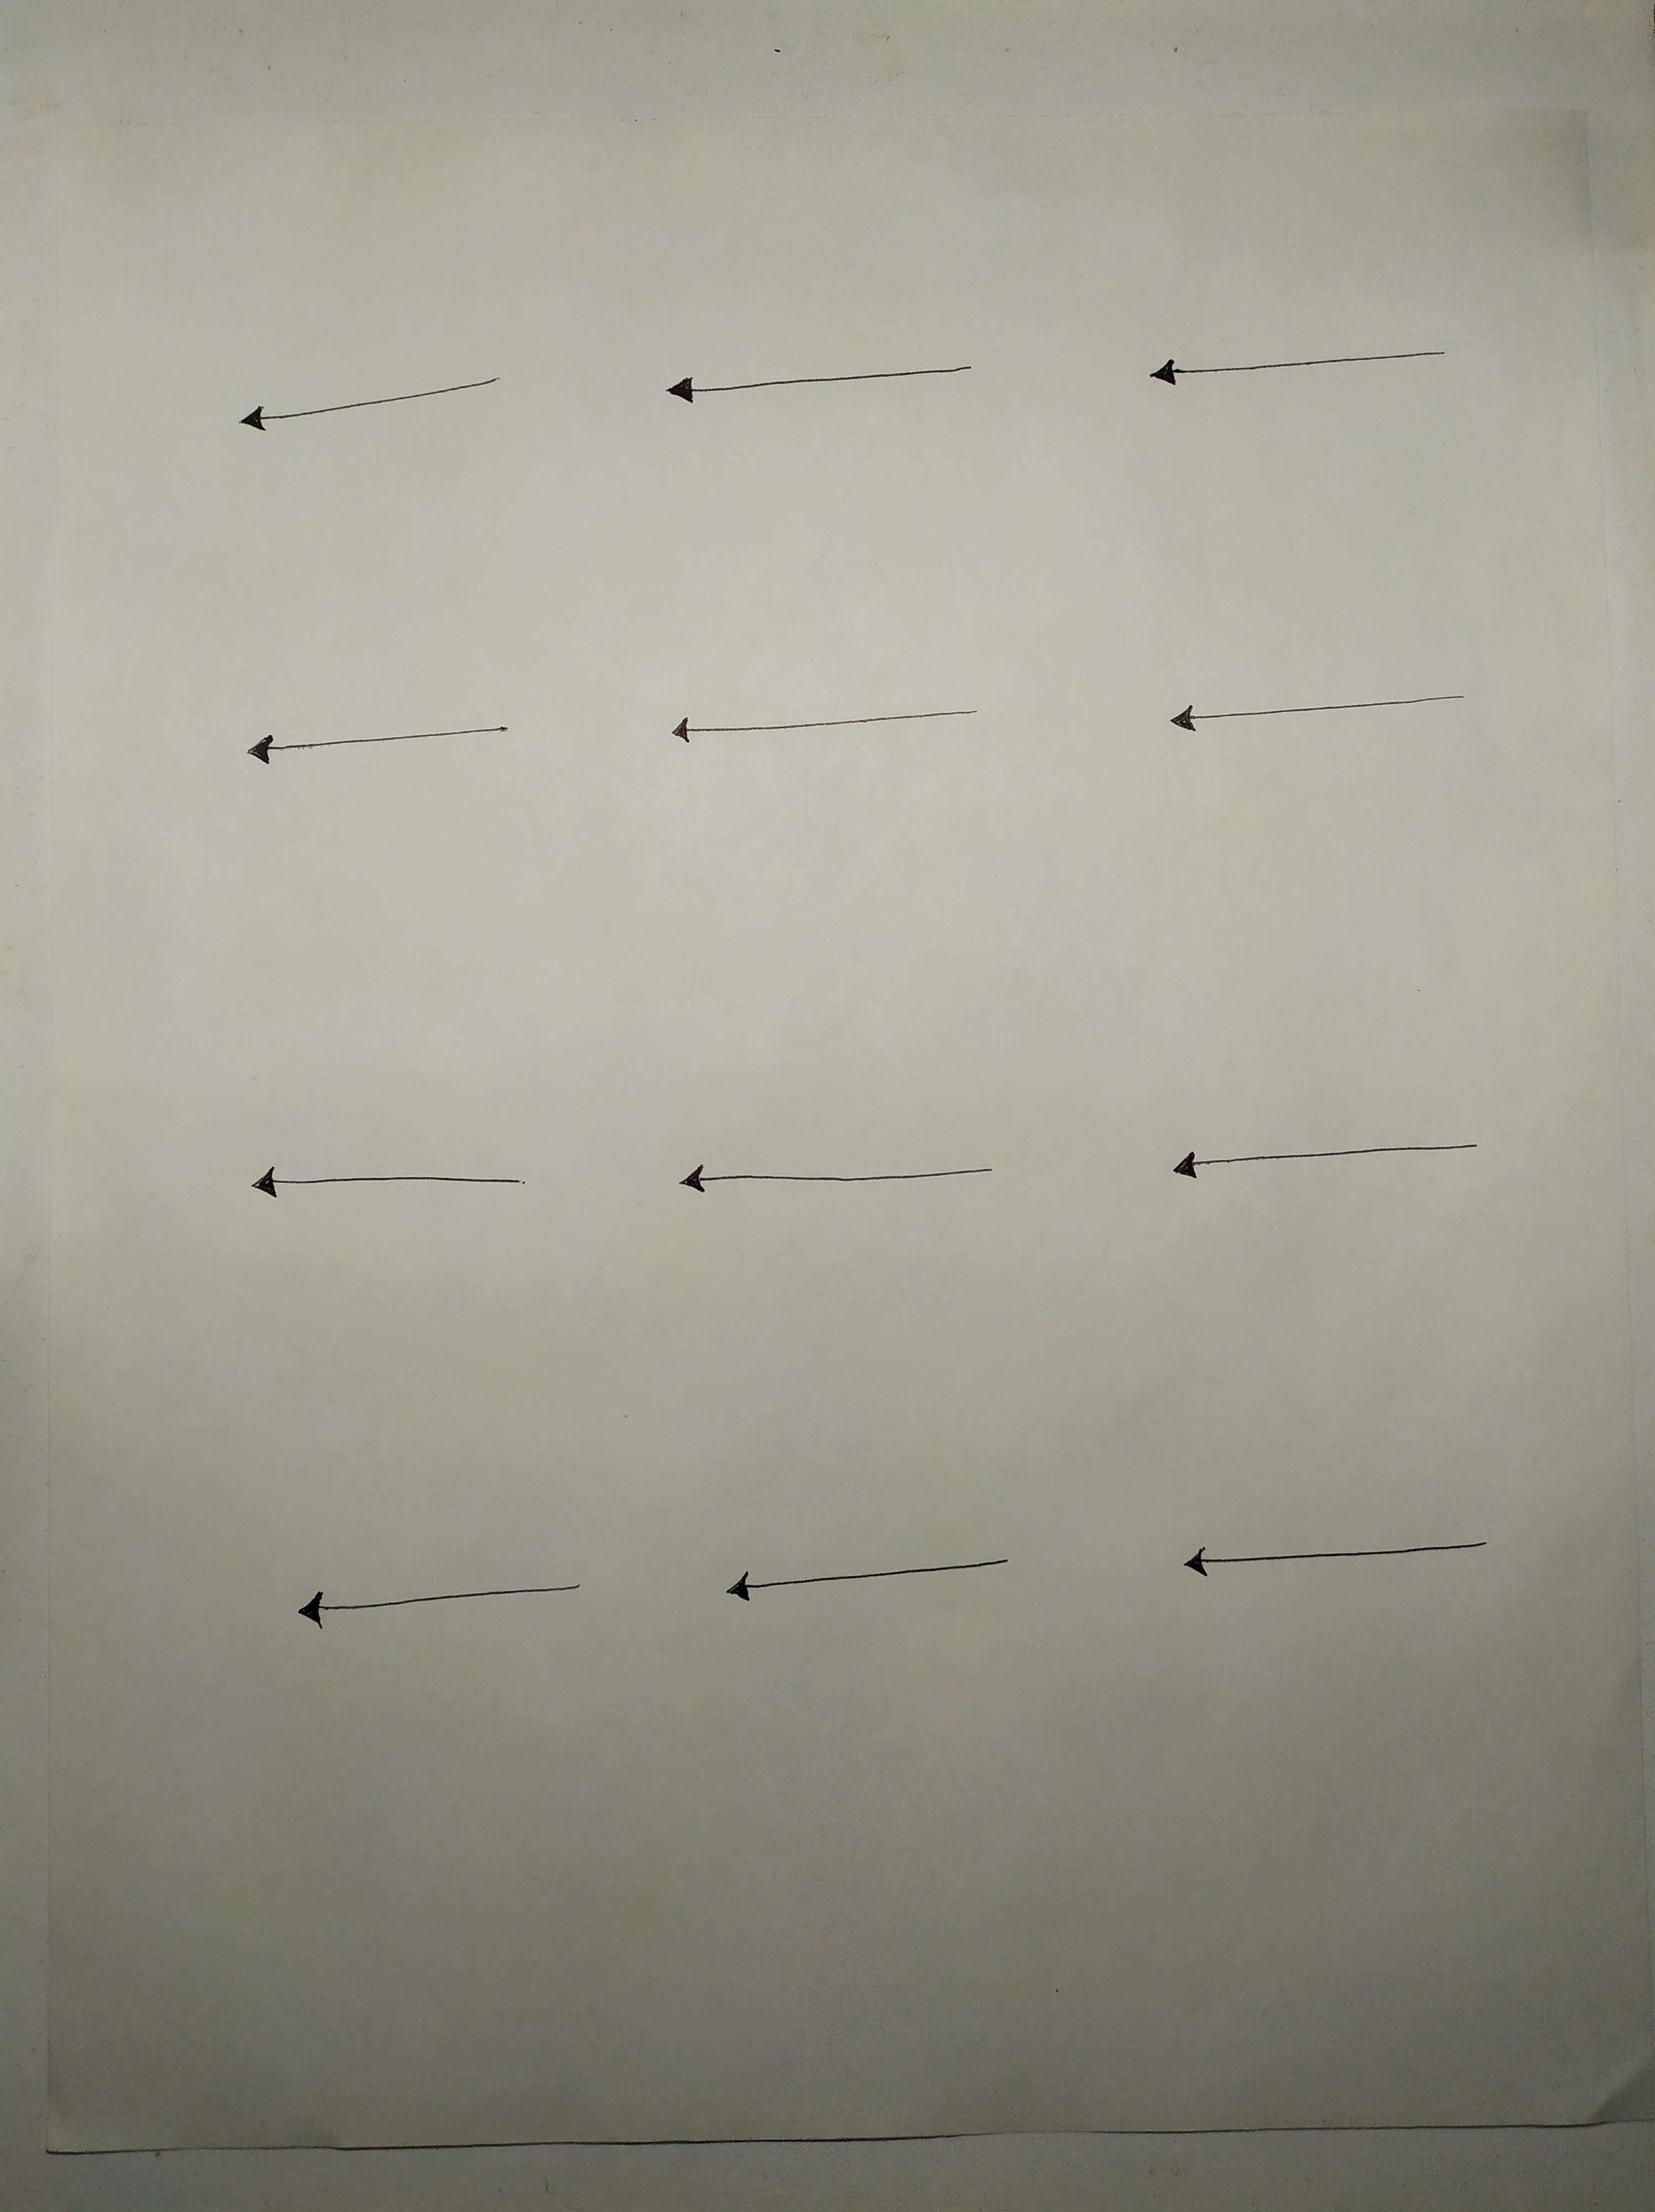arrow_line_left: (1118, 311, 1474, 417), (269, 1555, 629, 1654), (631, 332, 982, 433), (699, 1529, 1057, 1625), (1170, 1507, 1516, 1604), (221, 349, 520, 459), (1154, 1119, 1516, 1209), (643, 679, 998, 765), (664, 1138, 1024, 1215), (1146, 667, 1488, 740), (228, 1152, 551, 1211), (233, 714, 532, 775)
